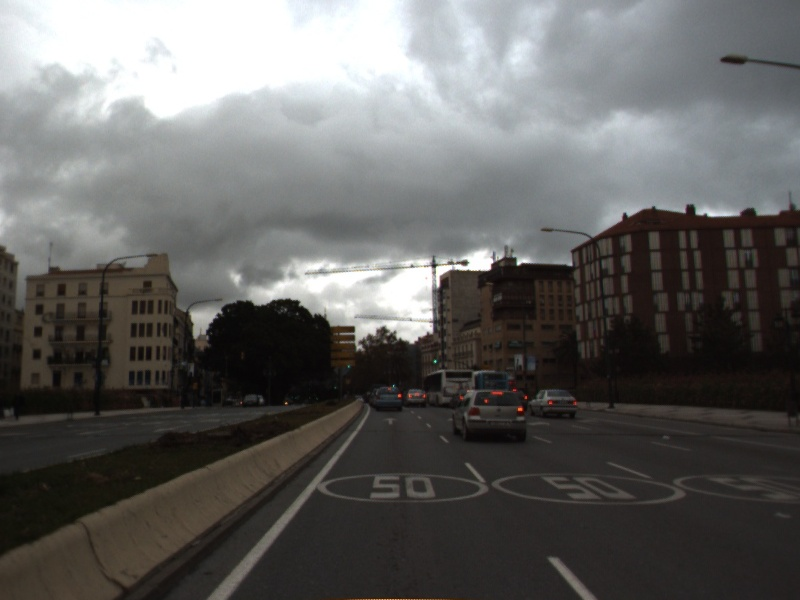STRAIGHT: (380, 415, 401, 426)
